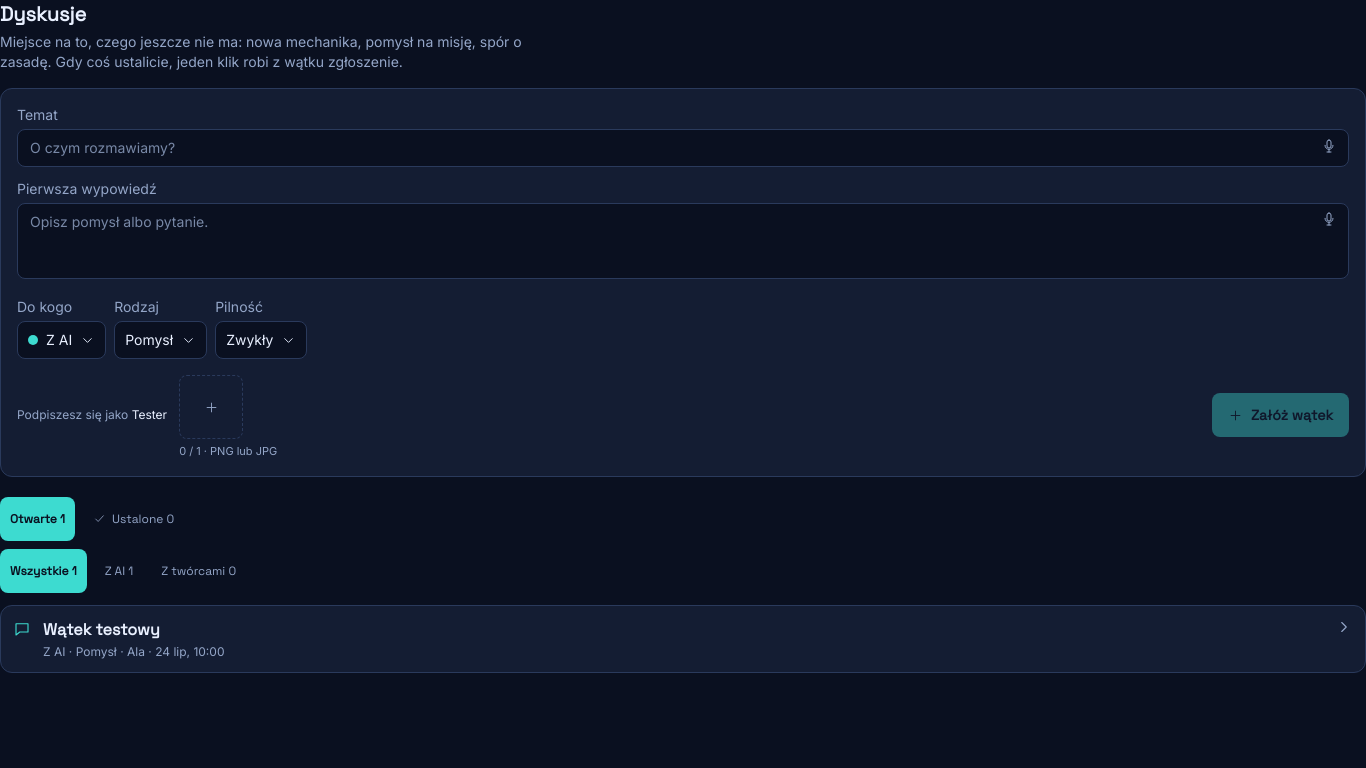
Test case: DiscussionsPanel — usuwanie wątku › gdy usunięcie się nie powiedzie, pokazuje błąd zamiast fałszywego „usunięto"
The image size is (1366, 768).
Click the button "Wątek testowy" at x=101, y=629, box [0,604,1365,672]
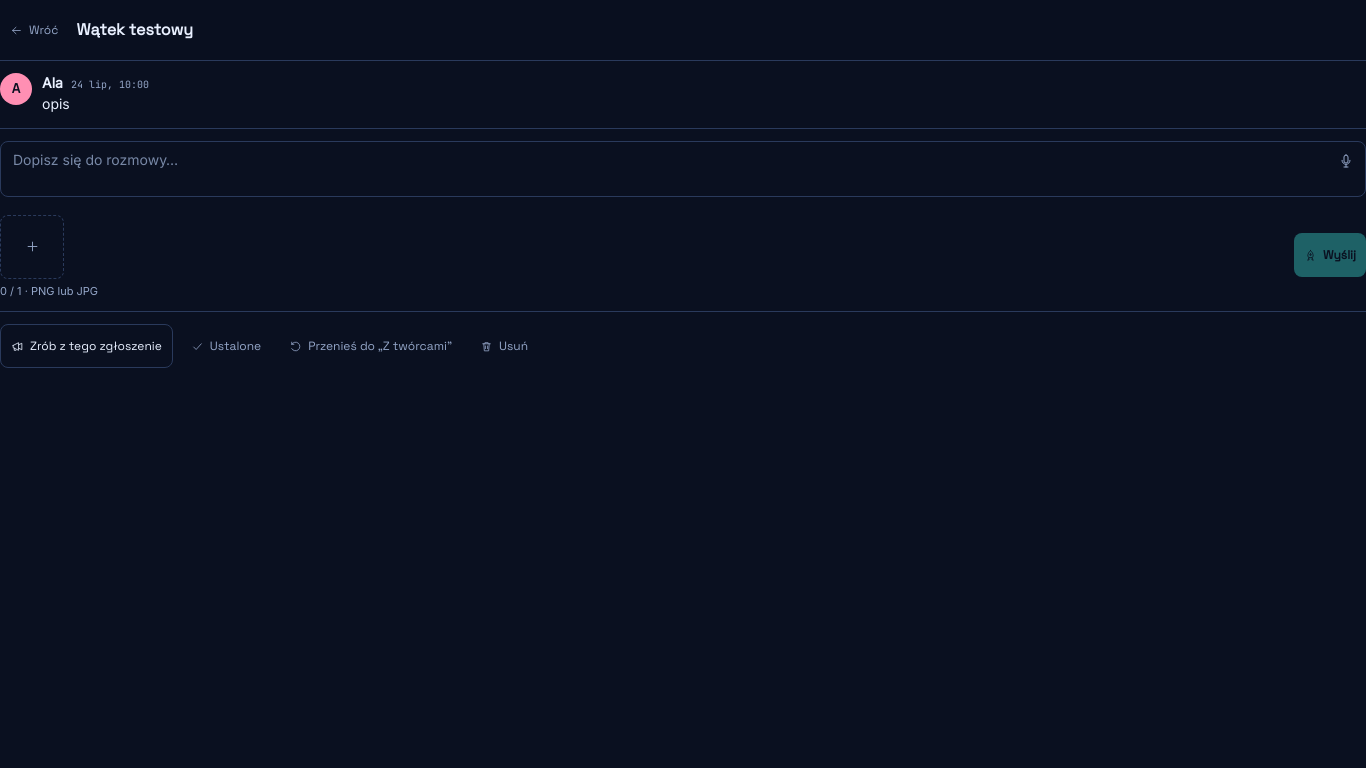
Click the button "Usuń" at x=504, y=346, box [470,324,538,368]
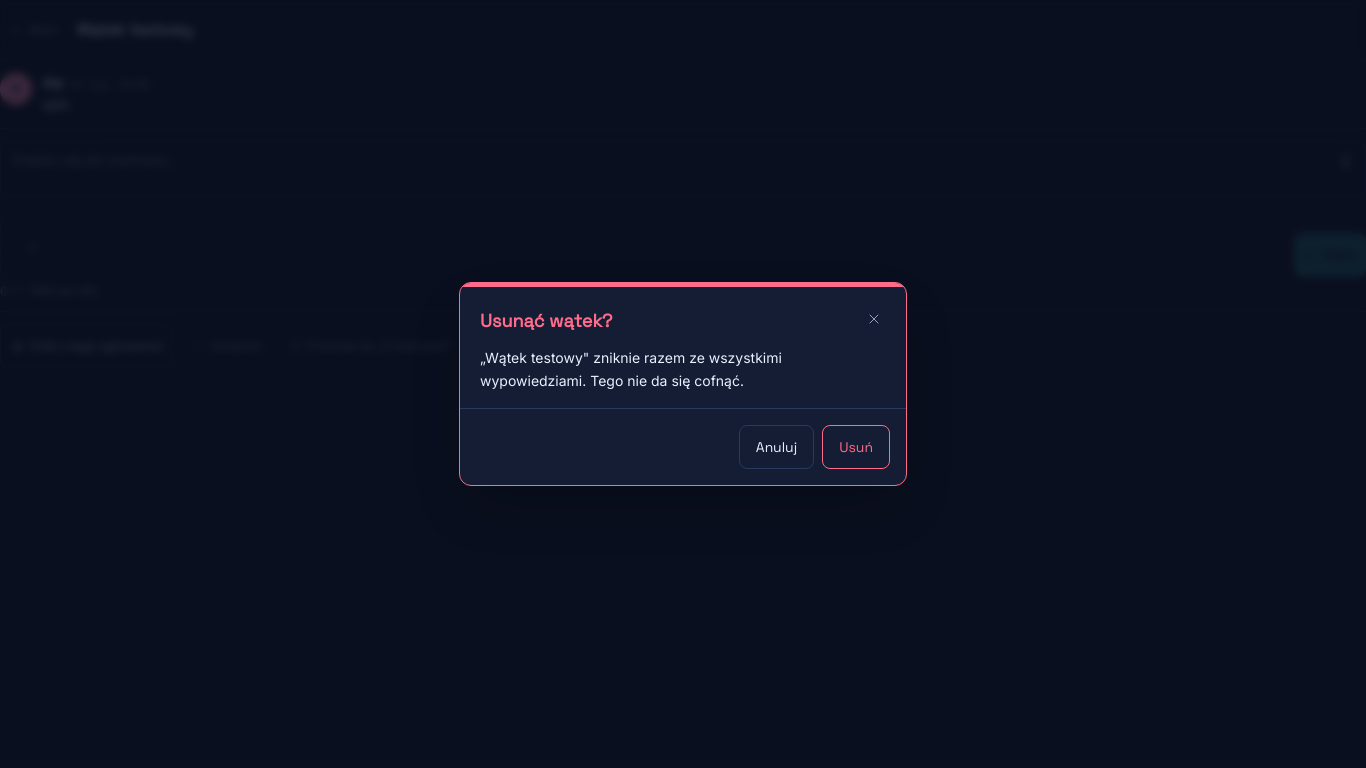
Click the button "Usuń" at x=856, y=447, box [822,425,890,469]
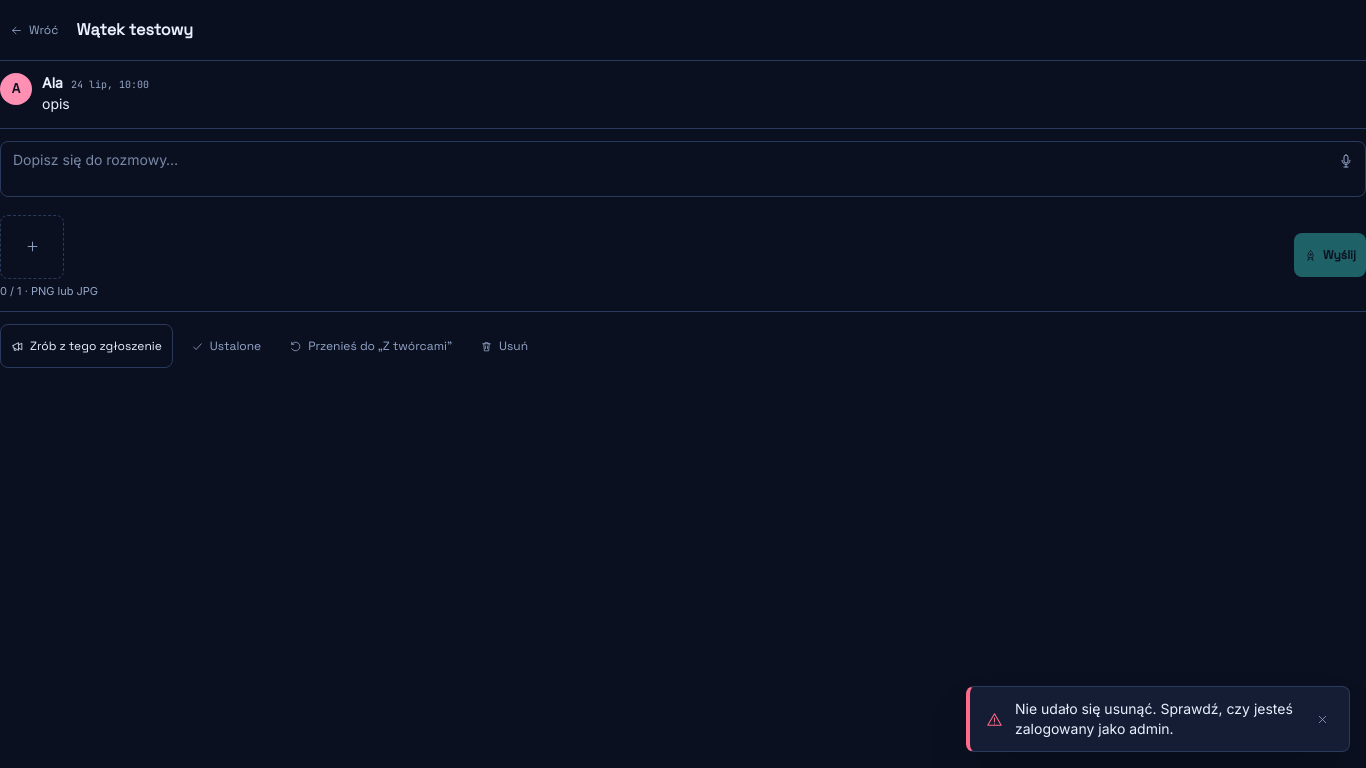
Now the text "Nie udało się usunąć" is shown, box [1015,700,1293,737]
